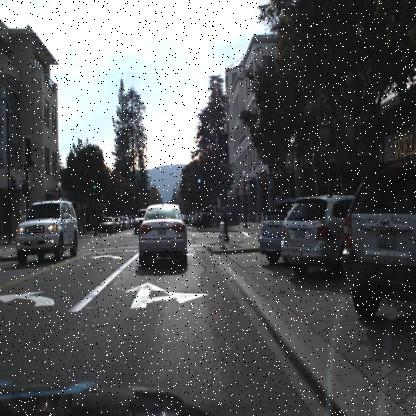car: (347, 157, 415, 324), (278, 184, 348, 283), (11, 193, 79, 269), (134, 193, 192, 273), (254, 194, 288, 268), (96, 213, 117, 236), (131, 206, 144, 238)
trafficLight-Green: (195, 165, 204, 189), (92, 178, 97, 196)
